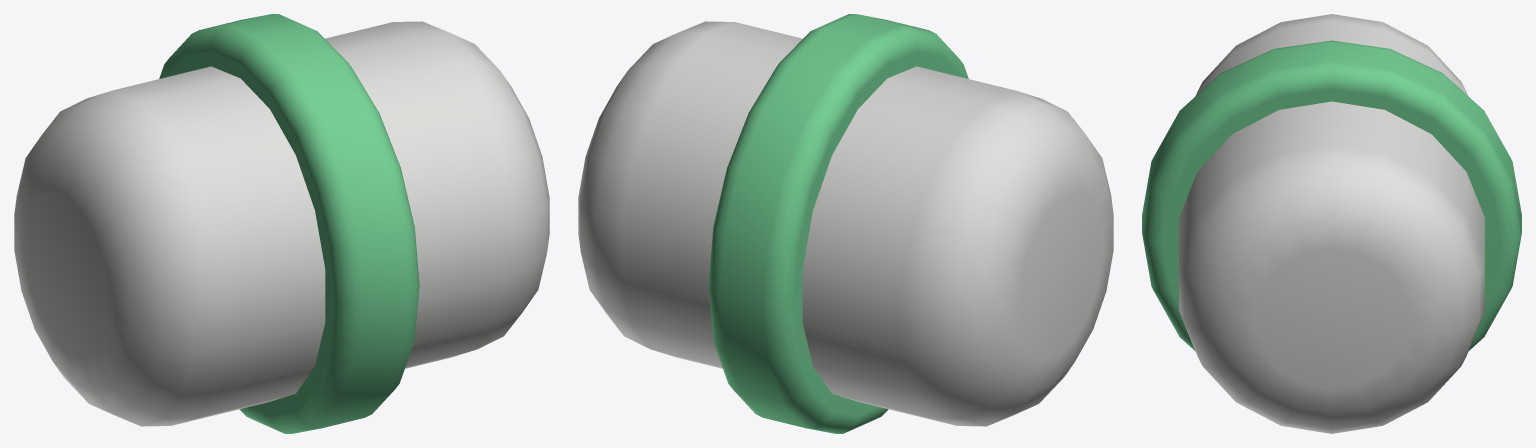
The model's file is BigBadVacuumCordLink.glb.
3 renders of one model, left to right at view 1: azimuth 30°, elevation 25°; view 2: azimuth 150°, elevation 25°; view 3: azimuth 270°, elevation 25°, orthographic. The views are drawn at different scales.
Visible parts, largest first — view 1: Cord, Band; view 2: Cord, Band; view 3: Cord, Band.
Boxes of the visible parts, x1,y1,x2,y2 form: Cord: [14, 21, 549, 426]; Band: [159, 14, 419, 433]; Cord: [578, 21, 1113, 426]; Band: [708, 14, 968, 433]; Cord: [1179, 14, 1484, 433]; Band: [1142, 40, 1521, 350].
Size of the model in its own units: 2.6 by 2.2 by 2.2.
